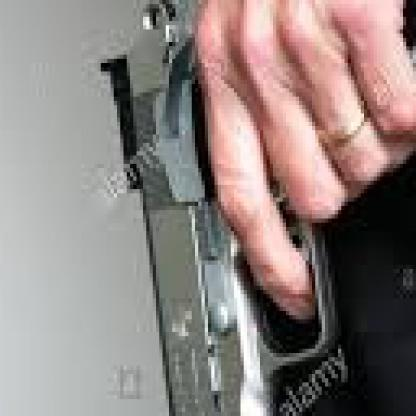gun: (111, 0, 413, 412)
